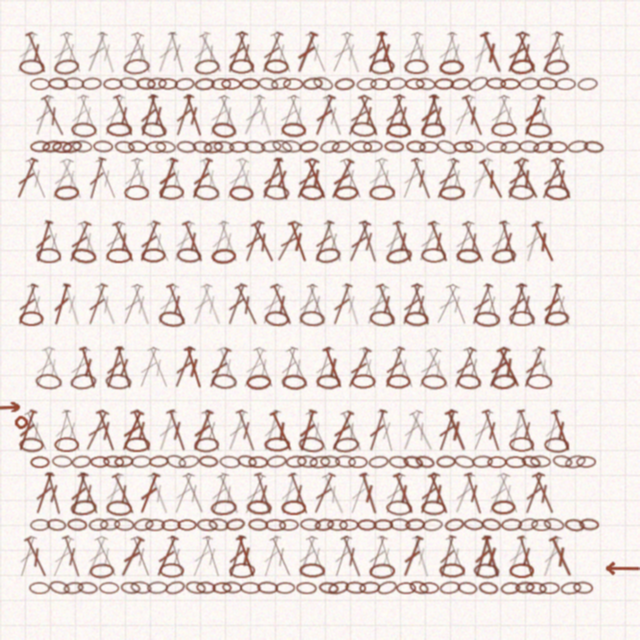chain: (385, 246, 413, 266), (315, 246, 342, 265), (140, 121, 168, 139), (53, 58, 80, 76), (70, 247, 97, 265), (158, 310, 185, 328), (333, 436, 360, 454), (194, 58, 220, 76), (544, 58, 570, 76), (211, 121, 237, 139), (491, 247, 517, 265), (123, 58, 150, 75), (350, 121, 377, 138), (193, 184, 220, 201), (263, 184, 290, 201), (508, 184, 535, 201), (35, 373, 62, 390), (70, 373, 97, 390), (105, 373, 132, 390), (298, 436, 325, 453), (70, 499, 97, 516), (210, 499, 237, 516), (369, 58, 395, 75), (509, 58, 535, 75), (299, 184, 325, 201), (544, 184, 570, 201), (176, 247, 202, 264), (264, 310, 290, 327), (299, 310, 325, 327), (369, 310, 395, 327), (544, 310, 570, 327), (211, 373, 237, 390), (456, 373, 482, 390), (491, 373, 517, 390), (246, 499, 272, 516), (467, 74, 490, 93), (525, 122, 552, 138), (473, 563, 500, 579), (19, 59, 45, 75), (71, 122, 97, 138), (439, 185, 465, 201), (474, 311, 500, 327), (281, 374, 307, 390), (421, 374, 447, 390), (106, 500, 132, 516), (386, 500, 412, 516), (89, 563, 115, 579), (369, 563, 395, 579), (435, 138, 458, 156), (439, 59, 464, 75), (281, 122, 306, 138), (386, 122, 411, 138), (421, 122, 446, 138), (54, 185, 79, 201), (229, 185, 254, 201), (334, 185, 359, 201), (211, 248, 236, 264), (456, 248, 481, 264), (404, 311, 429, 327), (246, 374, 271, 390), (316, 374, 341, 390), (19, 437, 44, 453), (194, 437, 219, 453), (544, 437, 569, 453), (421, 500, 446, 516), (564, 453, 587, 470), (48, 579, 71, 596), (327, 579, 350, 596), (106, 122, 132, 137), (491, 122, 517, 137), (369, 185, 395, 200), (106, 248, 132, 263), (509, 311, 535, 326), (526, 374, 552, 389), (124, 437, 150, 452), (264, 437, 290, 452), (229, 563, 255, 578), (299, 563, 325, 578), (439, 563, 465, 578), (229, 59, 254, 74), (264, 59, 289, 74), (404, 59, 429, 74), (124, 185, 149, 200), (159, 185, 184, 200), (36, 248, 61, 263), (141, 248, 166, 263), (421, 248, 446, 263), (19, 311, 44, 326), (351, 374, 376, 389), (386, 374, 411, 389), (54, 437, 79, 452), (509, 437, 534, 452), (281, 500, 306, 515), (491, 500, 516, 515), (159, 563, 184, 578), (509, 563, 534, 578), (312, 75, 334, 92), (271, 138, 293, 155), (165, 453, 187, 470), (164, 579, 186, 596), (376, 579, 398, 596), (408, 579, 430, 596), (453, 454, 476, 470), (257, 76, 279, 92), (61, 139, 83, 155), (532, 139, 554, 155), (402, 454, 424, 470), (414, 454, 436, 470), (520, 454, 542, 470), (270, 76, 292, 91), (41, 139, 63, 154), (298, 139, 320, 154), (319, 139, 341, 154), (464, 139, 486, 154), (567, 139, 589, 154), (178, 454, 200, 469), (236, 454, 258, 469), (517, 517, 539, 532), (543, 517, 565, 532), (130, 580, 152, 595), (439, 580, 461, 595), (119, 76, 140, 91), (281, 139, 302, 154), (331, 139, 352, 154), (71, 454, 92, 469), (266, 454, 287, 469), (552, 454, 573, 469), (133, 517, 154, 532), (208, 517, 229, 532), (225, 517, 246, 532), (314, 517, 335, 532), (444, 517, 465, 532), (481, 517, 502, 532), (185, 580, 206, 595), (213, 140, 235, 154), (244, 140, 266, 154), (219, 455, 241, 469), (309, 455, 331, 469), (196, 518, 218, 532), (525, 581, 547, 595), (560, 581, 582, 595), (174, 77, 195, 91), (194, 77, 215, 91), (334, 77, 355, 91), (356, 77, 377, 91), (415, 77, 436, 91), (450, 77, 471, 91), (577, 77, 598, 91), (114, 140, 135, 154), (155, 140, 176, 154), (176, 140, 197, 154), (192, 140, 213, 154), (203, 140, 224, 154), (500, 140, 521, 154), (583, 140, 604, 154), (368, 455, 389, 469), (388, 455, 409, 469), (46, 518, 67, 532), (422, 518, 443, 532), (564, 518, 585, 532), (63, 581, 84, 595), (77, 581, 98, 595), (120, 581, 141, 595), (318, 581, 339, 595), (457, 581, 478, 595), (478, 581, 499, 595), (500, 581, 521, 595), (536, 77, 558, 90), (285, 455, 307, 468), (389, 518, 411, 531), (81, 77, 102, 90), (302, 77, 323, 90), (386, 77, 407, 90), (519, 77, 540, 90), (351, 140, 372, 153), (103, 455, 124, 468), (198, 455, 219, 468), (297, 455, 318, 468), (335, 455, 356, 468), (472, 455, 493, 468), (530, 455, 551, 468), (88, 518, 109, 531), (300, 518, 321, 531), (463, 518, 484, 531), (501, 518, 522, 531), (147, 581, 168, 594), (257, 581, 278, 594), (345, 581, 366, 594), (359, 581, 380, 594), (48, 77, 68, 90), (64, 77, 84, 90), (136, 77, 156, 90), (147, 77, 167, 90), (486, 77, 506, 90), (30, 140, 50, 153), (72, 140, 92, 153), (93, 140, 113, 153), (128, 140, 148, 153), (261, 140, 281, 153), (363, 140, 383, 153), (384, 140, 404, 153), (406, 140, 426, 153), (519, 140, 539, 153), (52, 455, 72, 468), (114, 455, 134, 468), (131, 455, 151, 468), (149, 455, 169, 468), (320, 455, 340, 468), (436, 455, 456, 468), (67, 518, 87, 531), (100, 518, 120, 531), (114, 518, 134, 531), (248, 518, 268, 531), (405, 518, 425, 531), (579, 518, 599, 531), (196, 581, 216, 594), (222, 581, 242, 594), (515, 581, 535, 594), (573, 581, 593, 594), (555, 78, 576, 90), (486, 141, 507, 153), (505, 456, 526, 468), (265, 519, 286, 531), (327, 519, 348, 531), (29, 582, 50, 594), (240, 582, 261, 594), (296, 582, 317, 594), (539, 582, 560, 594), (30, 78, 50, 90), (103, 78, 123, 90), (158, 78, 178, 90), (211, 78, 231, 90), (221, 78, 241, 90), (240, 78, 260, 90), (283, 78, 303, 90), (370, 78, 390, 90), (405, 78, 425, 90), (434, 78, 454, 90), (500, 78, 520, 90), (52, 141, 72, 153), (146, 141, 166, 153), (229, 141, 249, 153), (419, 141, 439, 153), (453, 141, 473, 153), (548, 141, 568, 153), (30, 456, 50, 468), (90, 456, 110, 468), (248, 456, 268, 468), (348, 456, 368, 468), (487, 456, 507, 468), (576, 456, 596, 468), (30, 519, 50, 531), (145, 519, 165, 531), (161, 519, 181, 531), (177, 519, 197, 531), (279, 519, 299, 531), (339, 519, 359, 531), (357, 519, 377, 531), (373, 519, 393, 531), (531, 519, 551, 531), (99, 582, 119, 594), (212, 582, 232, 594), (275, 582, 295, 594), (396, 582, 416, 594), (419, 582, 439, 594)
double: (272, 220, 305, 264), (431, 282, 463, 327), (493, 345, 525, 390), (476, 157, 508, 201), (511, 157, 543, 201), (406, 409, 438, 453), (283, 345, 314, 390), (91, 534, 122, 579), (266, 534, 297, 579), (546, 534, 577, 579), (196, 31, 227, 75), (38, 94, 69, 138), (343, 94, 374, 138), (221, 157, 252, 201), (326, 157, 357, 201), (248, 220, 279, 264), (238, 346, 269, 390), (343, 346, 374, 390), (413, 346, 444, 390), (423, 346, 454, 390), (21, 409, 52, 453), (81, 409, 112, 453), (21, 535, 52, 579), (116, 535, 147, 579), (267, 30, 297, 75), (477, 30, 507, 75), (502, 30, 532, 75), (22, 156, 52, 201), (92, 156, 122, 201), (502, 156, 532, 201), (152, 282, 182, 327), (267, 282, 297, 327), (389, 345, 419, 390), (179, 471, 209, 516), (529, 471, 559, 516), (302, 534, 332, 579), (117, 31, 147, 75), (529, 94, 559, 138), (47, 157, 77, 201), (57, 157, 87, 201), (292, 157, 322, 201), (432, 157, 462, 201), (537, 157, 567, 201), (64, 220, 94, 264), (109, 220, 139, 264), (144, 220, 174, 264), (344, 220, 374, 264), (459, 220, 489, 264), (529, 220, 559, 264), (232, 283, 262, 327), (362, 283, 392, 327), (204, 346, 234, 390), (449, 346, 479, 390), (529, 346, 559, 390), (117, 409, 147, 453), (267, 409, 297, 453), (302, 409, 332, 453), (327, 409, 357, 453), (337, 409, 367, 453), (109, 472, 139, 516), (214, 472, 244, 516), (239, 472, 269, 516), (319, 472, 349, 516), (47, 535, 77, 579), (12, 30, 41, 75), (22, 30, 51, 75), (57, 30, 86, 75), (82, 30, 111, 75), (257, 30, 286, 75), (292, 30, 321, 75), (302, 30, 331, 75), (327, 30, 356, 75), (537, 30, 566, 75), (74, 93, 103, 138), (99, 93, 128, 138), (204, 93, 233, 138), (239, 93, 268, 138), (274, 93, 303, 138), (284, 93, 313, 138), (449, 93, 478, 138), (459, 93, 488, 138), (519, 93, 548, 138), (12, 156, 41, 201), (187, 156, 216, 201), (197, 156, 226, 201), (257, 156, 286, 201), (302, 156, 331, 201), (337, 156, 366, 201), (372, 156, 401, 201), (397, 156, 426, 201), (467, 156, 496, 201), (99, 219, 128, 264), (169, 219, 198, 264), (179, 219, 208, 264), (414, 219, 443, 264), (92, 282, 121, 327), (257, 282, 286, 327), (397, 282, 426, 327), (467, 282, 496, 327), (39, 345, 68, 390), (64, 345, 93, 390), (134, 345, 163, 390), (144, 345, 173, 390), (214, 345, 243, 390), (484, 345, 513, 390), (519, 345, 548, 390), (127, 408, 156, 453), (442, 408, 471, 453), (169, 471, 198, 516), (309, 471, 338, 516), (484, 471, 513, 516), (494, 471, 523, 516), (82, 534, 111, 579), (127, 534, 156, 579), (152, 534, 181, 579), (187, 534, 216, 579), (442, 534, 471, 579), (48, 30, 76, 75), (128, 30, 156, 75), (223, 30, 251, 75), (398, 30, 426, 75), (513, 30, 541, 75), (110, 93, 138, 138), (215, 93, 243, 138), (310, 93, 338, 138), (355, 93, 383, 138), (380, 93, 408, 138), (485, 93, 513, 138), (495, 93, 523, 138), (118, 156, 146, 201), (153, 156, 181, 201), (363, 156, 391, 201), (408, 156, 436, 201), (548, 156, 576, 201), (75, 219, 103, 264), (135, 219, 163, 264), (215, 219, 243, 264), (425, 219, 453, 264), (485, 219, 513, 264), (13, 282, 41, 327), (83, 282, 111, 327), (118, 282, 146, 327), (163, 282, 191, 327), (188, 282, 216, 327), (198, 282, 226, 327), (293, 282, 321, 327), (303, 282, 331, 327), (373, 282, 401, 327), (443, 282, 471, 327), (513, 282, 541, 327), (30, 345, 58, 390), (170, 345, 198, 390), (250, 345, 278, 390), (380, 345, 408, 390), (460, 345, 488, 390), (163, 408, 191, 453), (188, 408, 216, 453), (198, 408, 226, 453), (223, 408, 251, 453), (398, 408, 426, 453), (433, 408, 461, 453), (468, 408, 496, 453), (75, 471, 103, 516), (135, 471, 163, 516), (145, 471, 173, 516), (285, 471, 313, 516), (380, 471, 408, 516), (390, 471, 418, 516), (415, 471, 443, 516), (425, 471, 453, 516), (450, 471, 478, 516), (520, 471, 548, 516), (293, 534, 321, 579), (338, 534, 366, 579), (363, 534, 391, 579), (398, 534, 426, 579), (153, 30, 180, 75), (233, 30, 260, 75), (338, 30, 365, 75), (363, 30, 390, 75), (408, 30, 435, 75), (433, 30, 460, 75), (548, 30, 575, 75), (30, 93, 57, 138), (145, 93, 172, 138), (320, 93, 347, 138), (390, 93, 417, 138), (415, 93, 442, 138), (128, 156, 155, 201), (163, 156, 190, 201), (233, 156, 260, 201), (240, 219, 267, 264), (285, 219, 312, 264), (310, 219, 337, 264), (380, 219, 407, 264), (390, 219, 417, 264), (450, 219, 477, 264), (128, 282, 155, 327), (223, 282, 250, 327), (328, 282, 355, 327), (408, 282, 435, 327), (548, 282, 575, 327), (310, 345, 337, 390), (320, 345, 347, 390), (93, 408, 120, 453), (233, 408, 260, 453), (548, 408, 575, 453), (100, 471, 127, 516), (345, 471, 372, 516), (233, 534, 260, 579), (258, 534, 285, 579), (503, 534, 530, 579), (538, 534, 565, 579), (94, 30, 120, 75), (164, 30, 190, 75), (66, 93, 92, 138), (171, 93, 197, 138), (181, 93, 207, 138), (251, 93, 277, 138), (444, 156, 470, 201), (41, 219, 67, 264), (206, 219, 232, 264), (321, 219, 347, 264), (356, 219, 382, 264), (24, 282, 50, 327), (59, 282, 85, 327), (504, 282, 530, 327), (539, 282, 565, 327), (101, 345, 127, 390), (111, 345, 137, 390), (181, 345, 207, 390), (14, 408, 40, 453), (59, 408, 85, 453), (154, 408, 180, 453), (294, 408, 320, 453), (364, 408, 390, 453), (479, 408, 505, 453), (514, 408, 540, 453), (31, 471, 57, 516), (206, 471, 232, 516), (251, 471, 277, 516), (356, 471, 382, 516), (461, 471, 487, 516), (14, 534, 40, 579), (59, 534, 85, 579), (199, 534, 225, 579), (329, 534, 355, 579), (479, 534, 505, 579), (189, 30, 214, 75), (374, 30, 399, 75), (444, 30, 469, 75), (136, 93, 161, 138), (426, 93, 451, 138), (84, 156, 109, 201), (31, 219, 56, 264), (496, 219, 521, 264), (521, 219, 546, 264), (49, 282, 74, 327), (339, 282, 364, 327), (76, 345, 101, 390), (276, 345, 301, 390), (356, 345, 381, 390), (259, 408, 284, 453), (374, 408, 399, 453), (66, 471, 91, 516), (276, 471, 301, 516), (164, 534, 189, 579), (224, 534, 249, 579), (374, 534, 399, 579), (409, 534, 434, 579), (514, 534, 539, 579), (470, 30, 494, 75), (480, 282, 504, 327), (50, 408, 74, 453), (540, 408, 564, 453), (42, 471, 66, 516), (435, 534, 459, 579), (470, 534, 494, 579), (505, 408, 528, 453), (271, 157, 293, 201)
noise: (603, 561, 640, 575), (13, 414, 29, 430), (0, 402, 22, 412)
